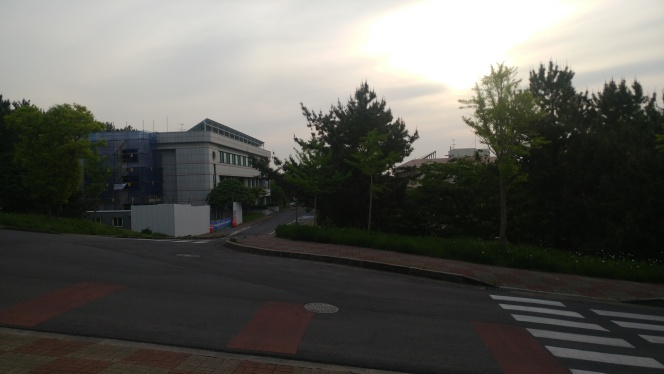Information Telecommunication Center: (97, 127, 278, 236), (151, 135, 272, 201), (175, 140, 262, 193)
